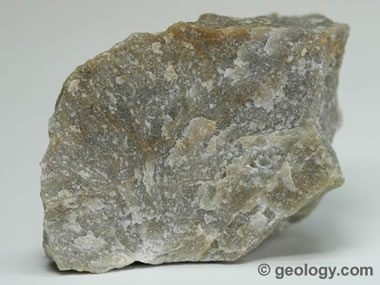obstacle: (41, 14, 348, 272)
